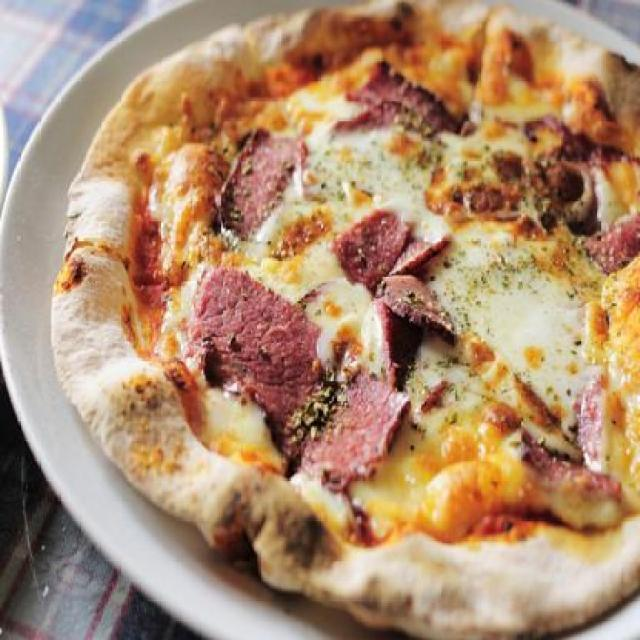Pizza: (42, 0, 615, 617)
